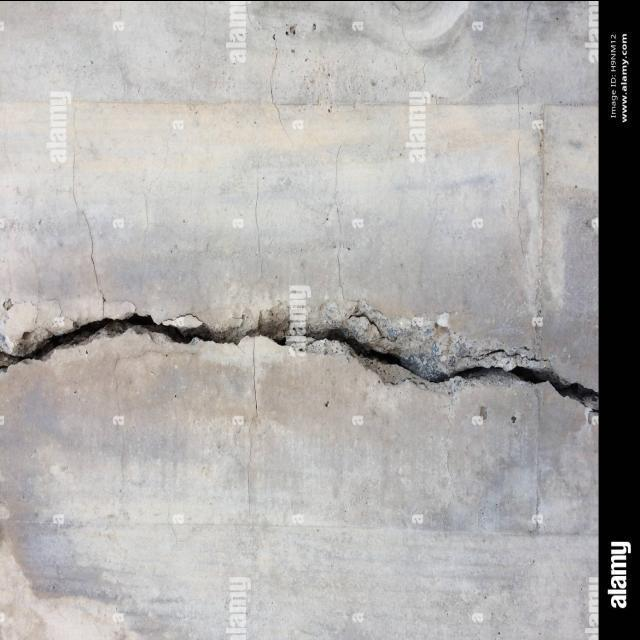crack: (5, 268, 600, 447)
